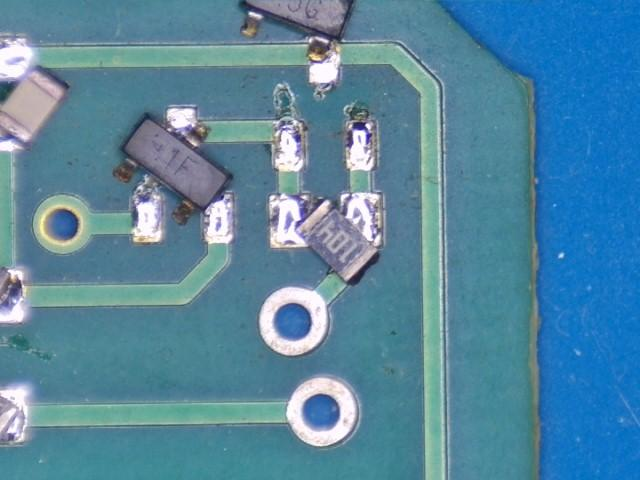Incorrect_installation: (113, 107, 237, 244), (270, 193, 386, 286), (240, 1, 357, 85), (1, 37, 71, 152)
